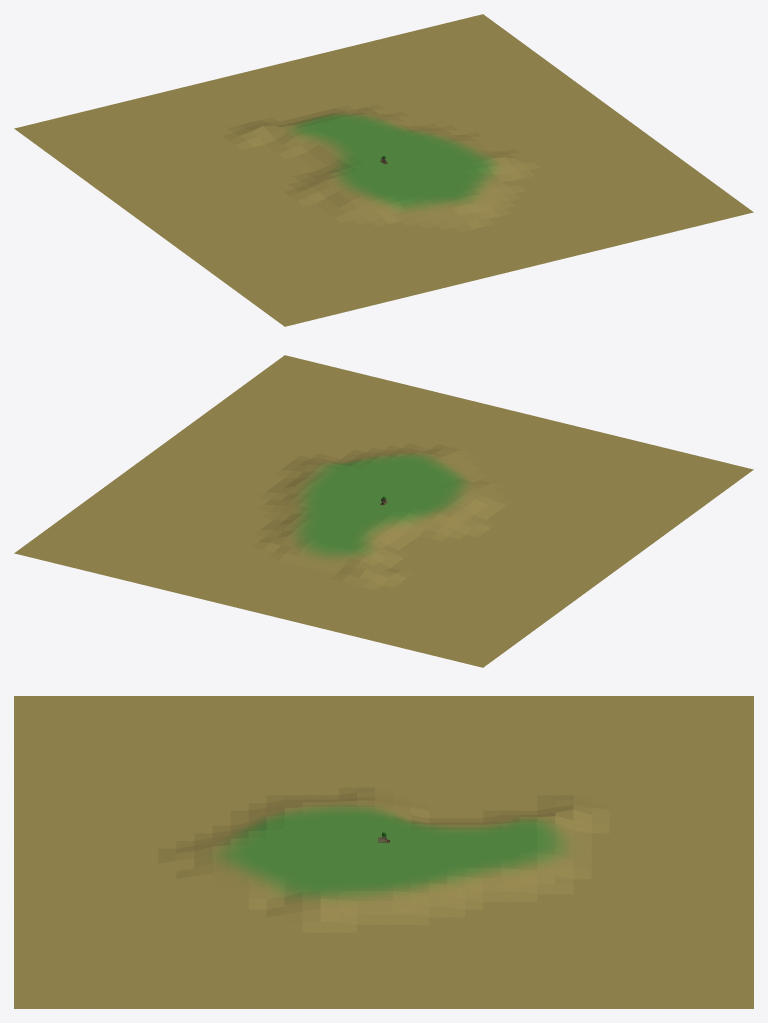
The picture shows the model from 3 angles, top to bottom: view 1: azimuth 30°, elevation 25°; view 2: azimuth 150°, elevation 25°; view 3: azimuth 270°, elevation 25°; orthographic projection. The views are drawn at different scales.
Visible parts, largest first — view 1: Terrain; view 2: Terrain; view 3: Terrain.
Boxes of the visible parts, x1=… form: Terrain: x1=14, y1=14, x2=753, y2=326; Terrain: x1=14, y1=355, x2=753, y2=667; Terrain: x1=14, y1=696, x2=753, y2=1008.
Bounding box in the file's own units: 300 × 8.89 × 300.
17 materials, 1 textured.
